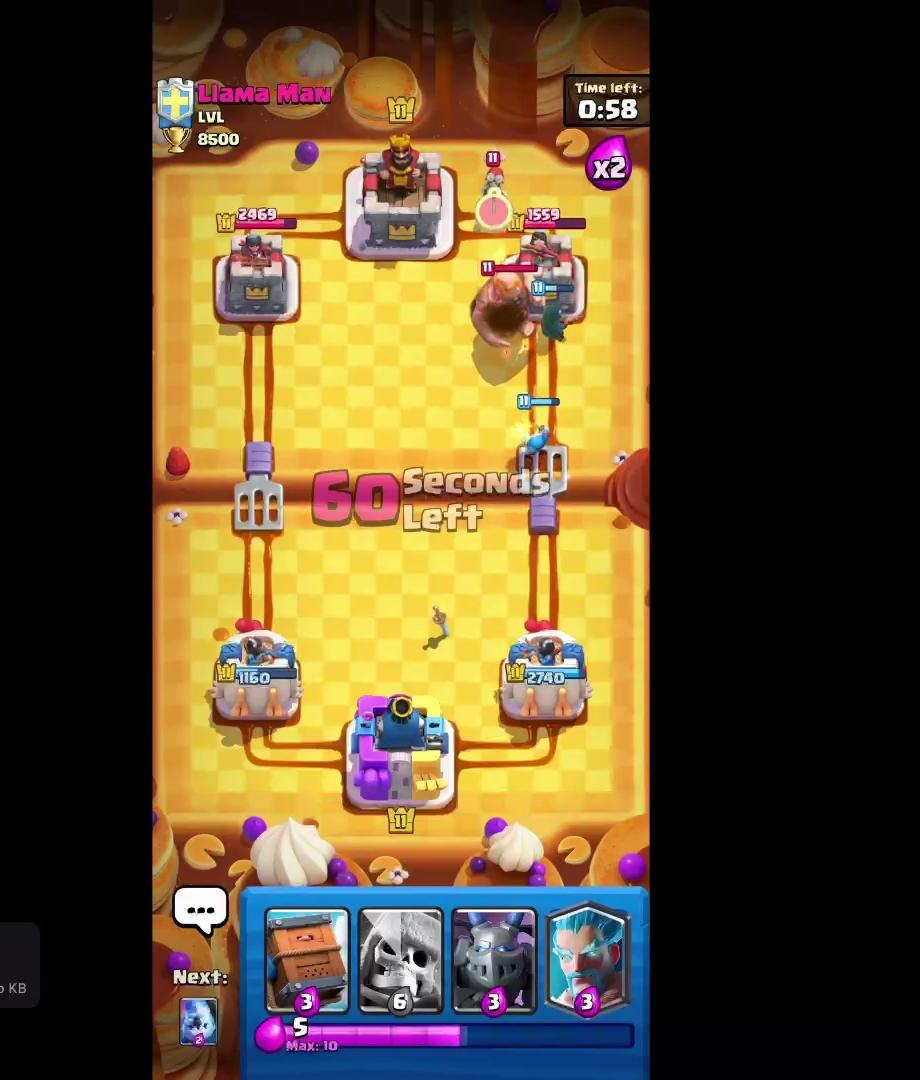Giant: (463, 256, 542, 355)
